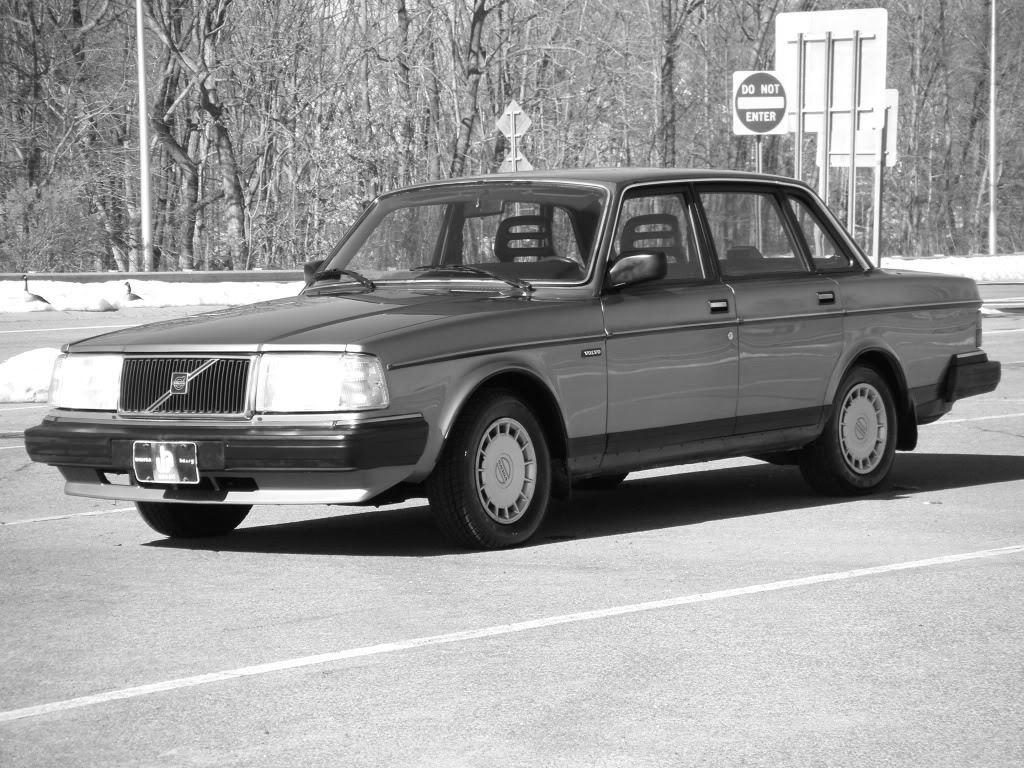car: (28, 165, 1005, 551)
